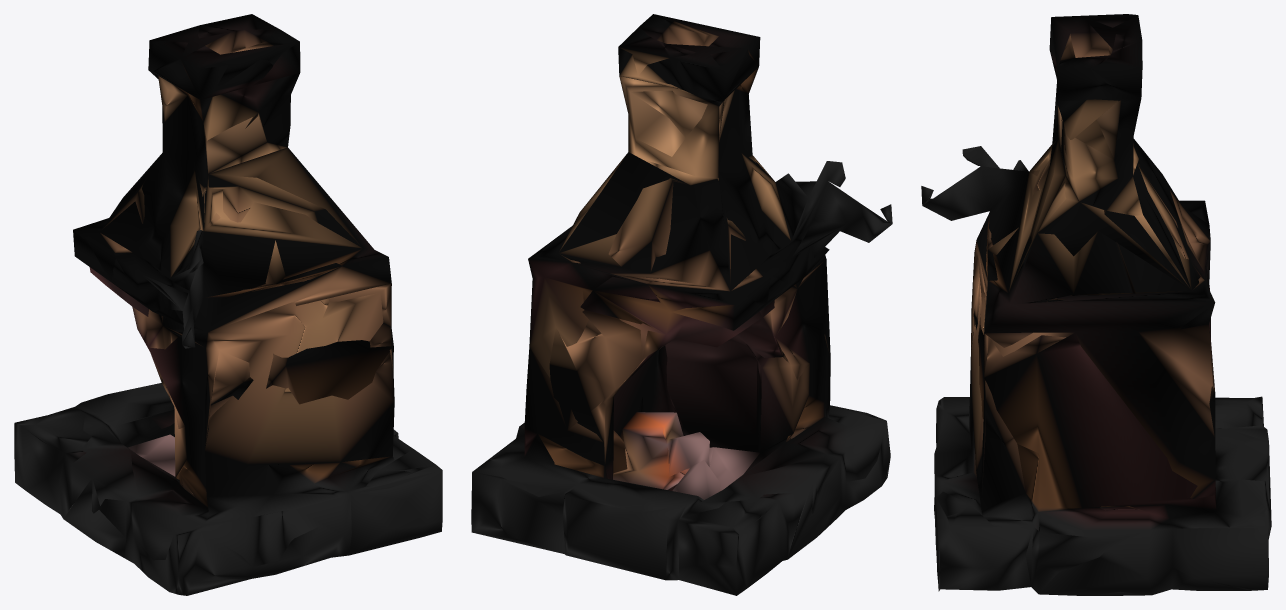
File: gen3d-forge-furnace-lod0.glb
3 renders of one model, left to right at view 1: azimuth 30°, elevation 25°; view 2: azimuth 150°, elevation 25°; view 3: azimuth 270°, elevation 25°, orthographic. The views are drawn at different scales.
Parts seen in each view (by area): view 1: part_0; view 2: part_0; view 3: part_0.
Part boxes in pixels (x1,y1,x2,y2): part_0: (14,14,442,595); part_0: (471,14,892,595); part_0: (921,14,1271,595).
Size of the model in its own units: 0.614 by 0.9918 by 0.6528.
